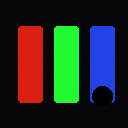2 circle: (92, 86, 112, 106)
